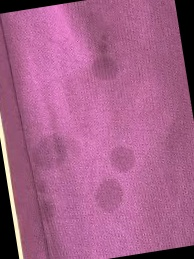oil: (31, 139, 73, 172), (91, 41, 124, 81), (37, 174, 64, 221), (94, 180, 128, 217), (110, 143, 131, 171)
